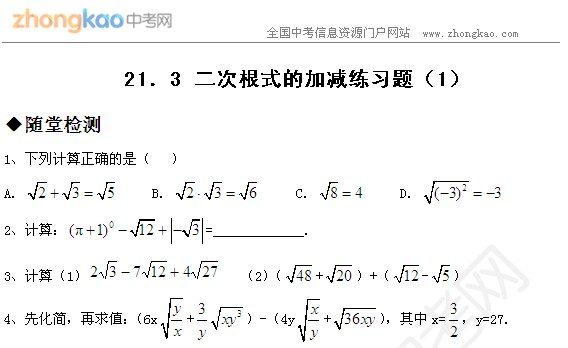cube: (236, 309, 242, 319), (307, 318, 319, 323)
division: (170, 318, 182, 324)
sqrt: (424, 179, 471, 206), (333, 305, 380, 331), (160, 295, 185, 339), (300, 295, 321, 342), (212, 304, 243, 332), (193, 257, 221, 281), (392, 263, 422, 285), (327, 262, 353, 286), (285, 262, 313, 284), (63, 177, 85, 204), (26, 178, 50, 202), (94, 180, 120, 201), (172, 180, 198, 201), (130, 217, 156, 238), (143, 259, 167, 281), (237, 181, 263, 201), (204, 180, 226, 203), (319, 179, 339, 202), (184, 214, 201, 241), (433, 262, 451, 284), (102, 259, 118, 281)
